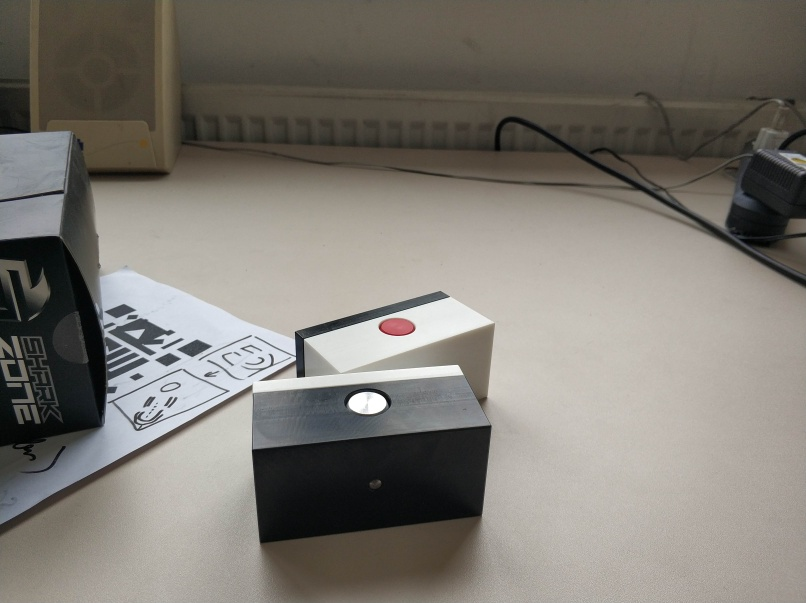black+white+red: (292, 286, 496, 405)
white+black+silver: (247, 363, 493, 548)
